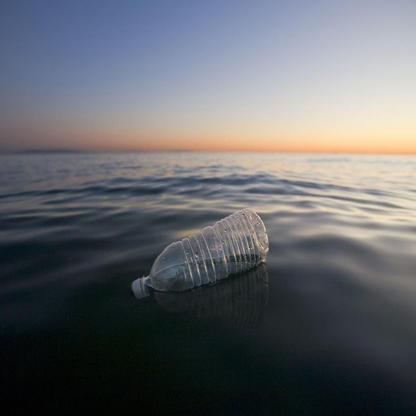plastic bottle: (132, 208, 270, 298)
